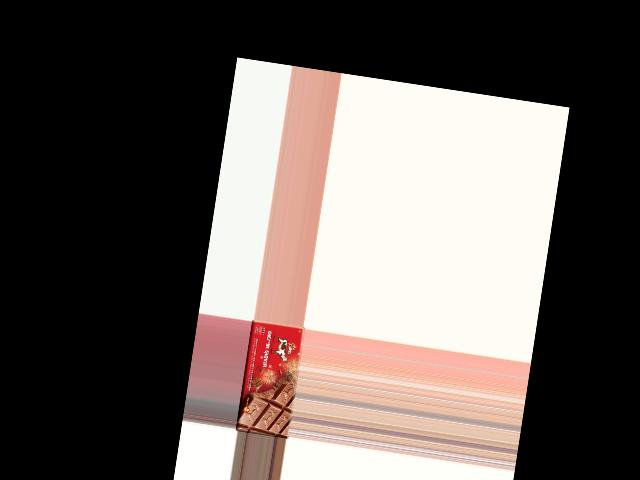chocolate: (235, 318, 305, 438)
